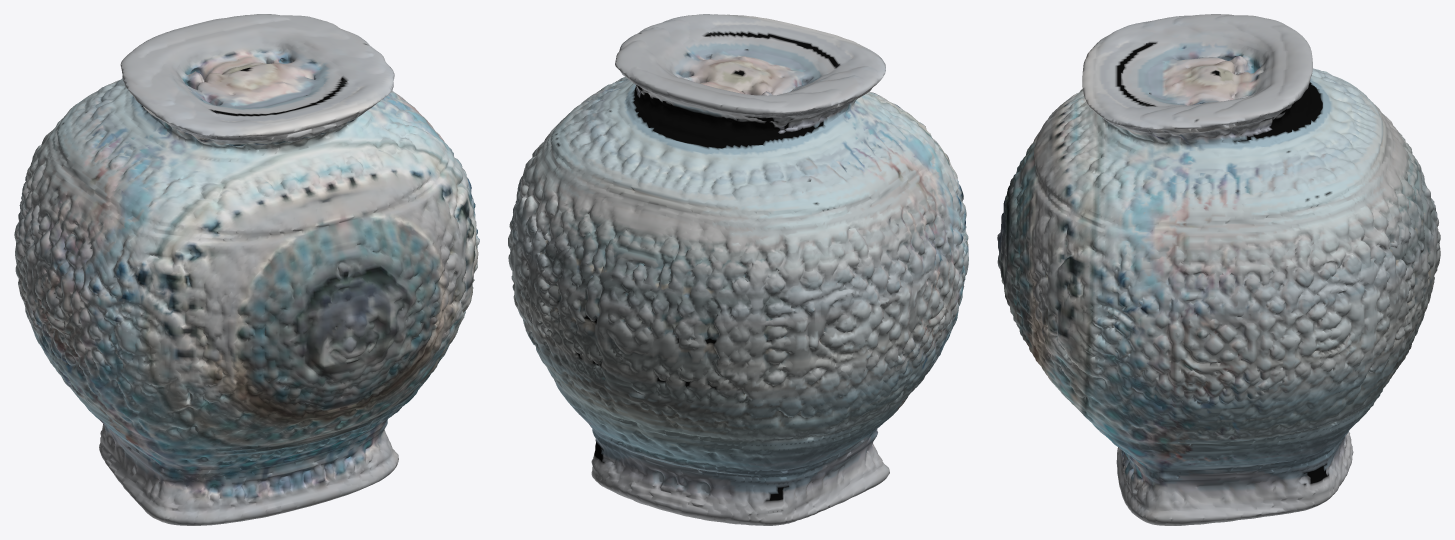
Rendered from aa0ff010-c38e-45dd-b473-91599815acb9.glb.
3 renders of one model, left to right at view 1: azimuth 30°, elevation 25°; view 2: azimuth 150°, elevation 25°; view 3: azimuth 270°, elevation 25°, orthographic.
Visible parts, largest first — view 1: world; view 2: world; view 3: world.
Boxes of the visible parts, bbox=[...] form: world: bbox=[14, 14, 479, 525]; world: bbox=[508, 14, 968, 525]; world: bbox=[997, 14, 1440, 525].
Bounding box in the file's own units: 29.59 × 30 × 28.99.
